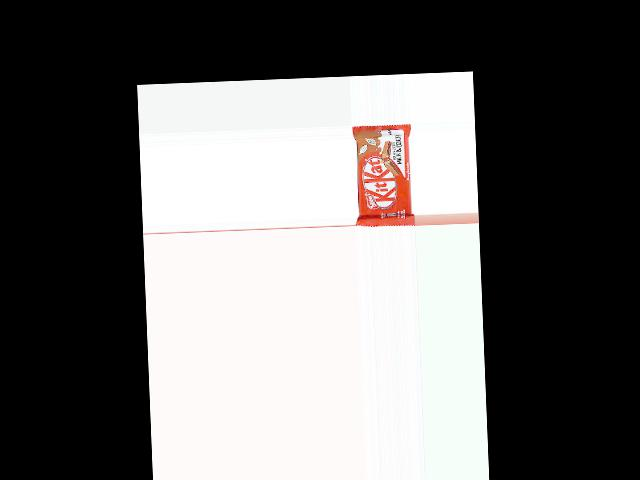chocolate: (352, 123, 415, 227)
